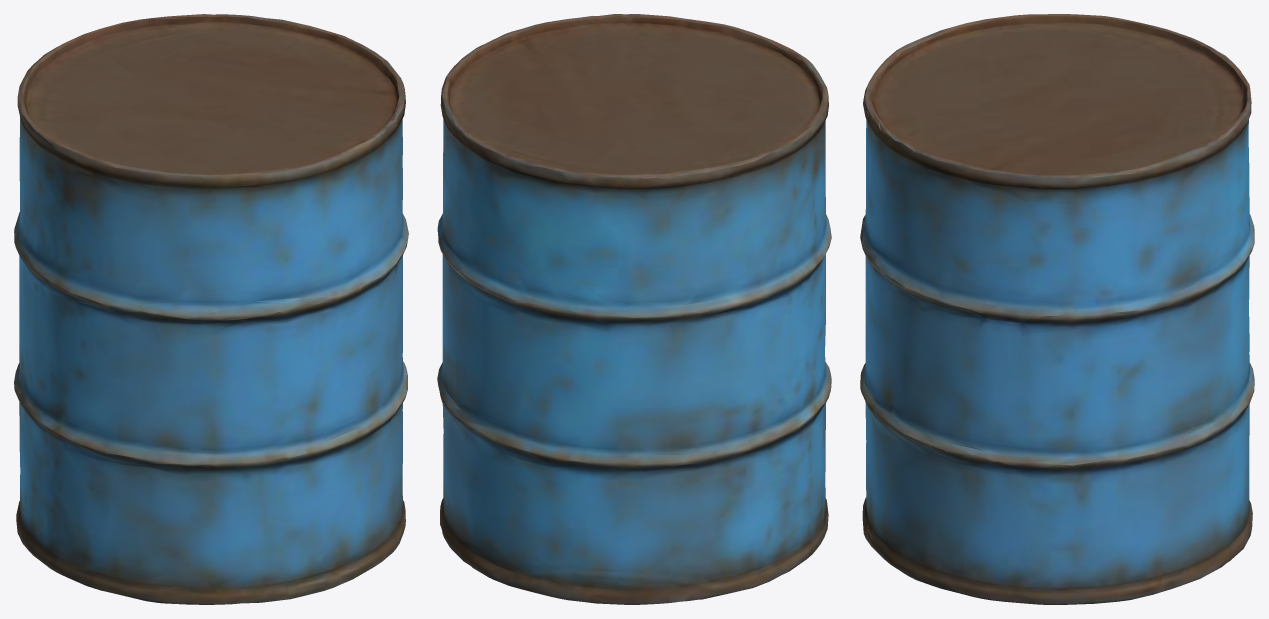
File: street_blue_barrel.glb
3 renders of one model, left to right at view 1: azimuth 30°, elevation 25°; view 2: azimuth 150°, elevation 25°; view 3: azimuth 270°, elevation 25°, orthographic.
Parts seen in each view (by area): view 1: file1; view 2: file1; view 3: file1.
Boxes of the visible parts, x1,y1,x2,y2 form: file1: (14, 14, 408, 604); file1: (437, 14, 831, 604); file1: (860, 14, 1254, 604).
Size of the model in its own units: 0.7463 by 0.9 by 0.747.
Materials: 1 (1 with a texture image).
